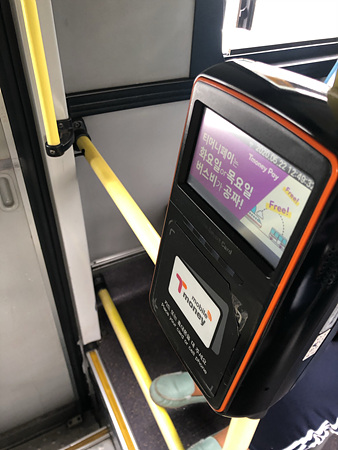terminal: (148, 56, 329, 403)
